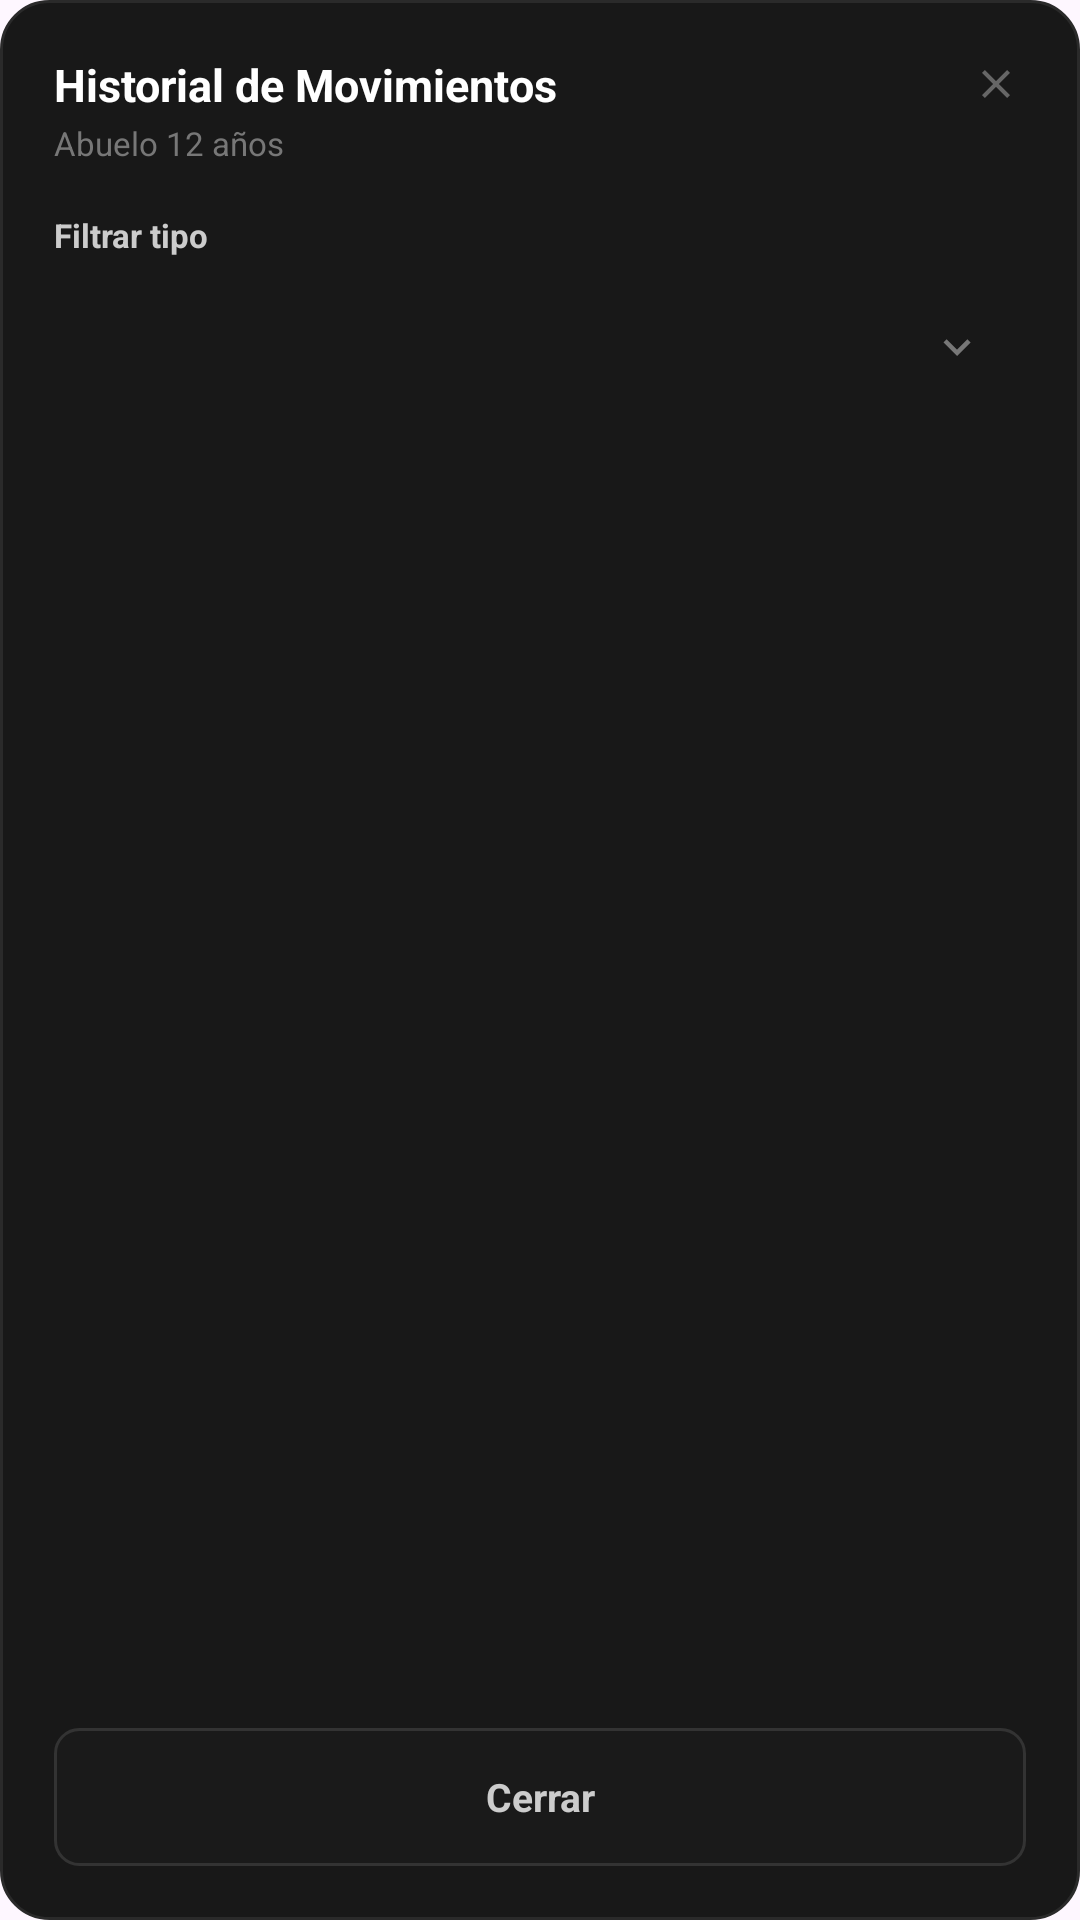

Where to tap for icons on this 1080 × 1920 app screen, as (x,y):
Cerrar: (996,84)
chevron down: (957,347)
